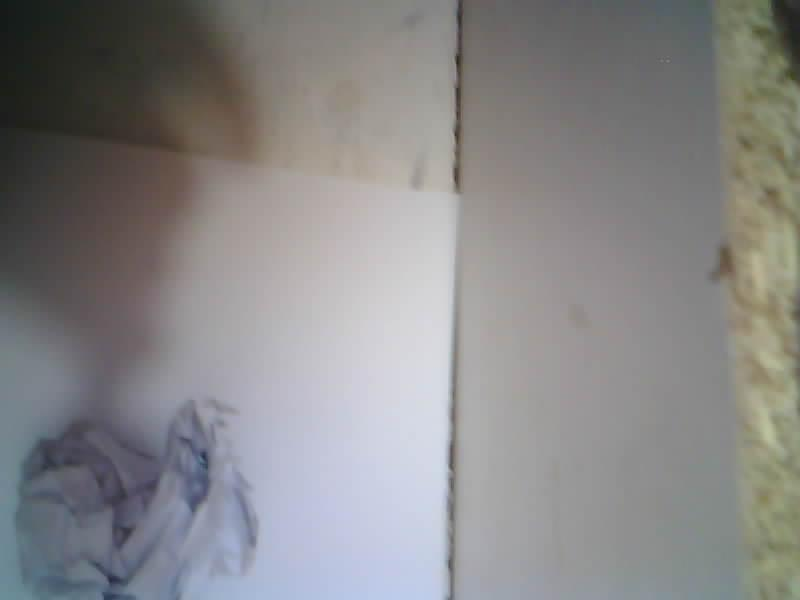biodegradable: (14, 402, 258, 599)
